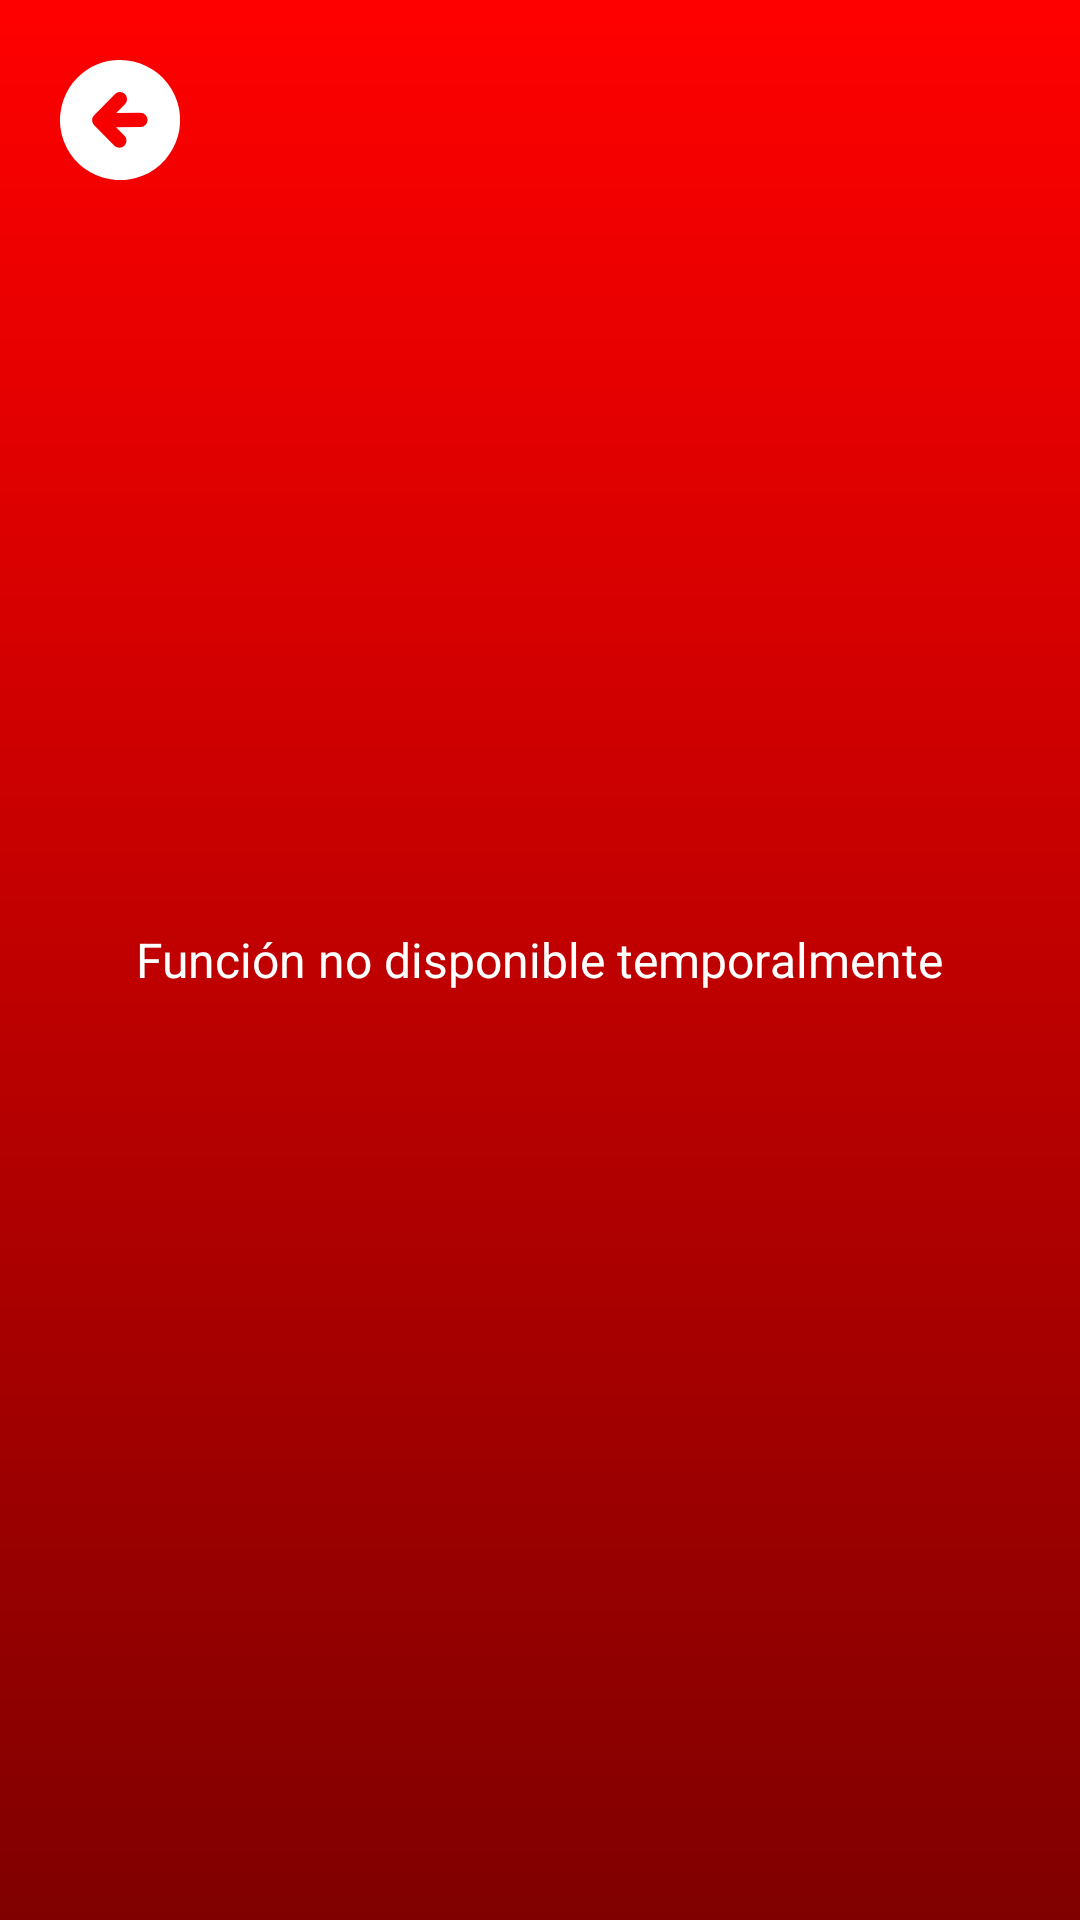

Named icons in this screenshot (1080x1920) and their bounding boxes, box(x1, y1, x2, y2):
back: box(60, 60, 180, 180)
